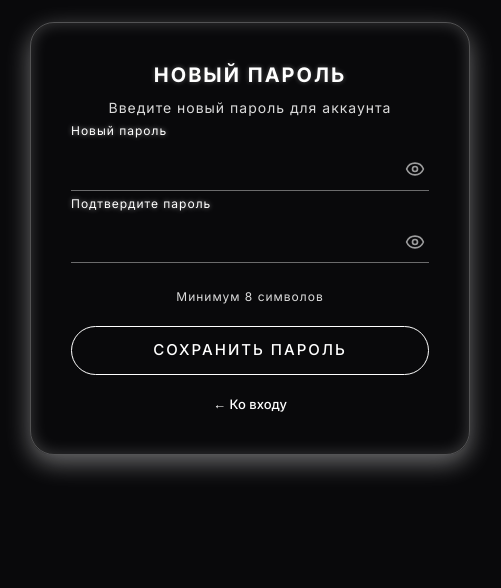
Test: ResetPassword › with token › shows error when password is too short
Type "abc" into the password field labelled "Новый пароль".
click(250, 167); type("abc")  # box [71, 143, 429, 190]
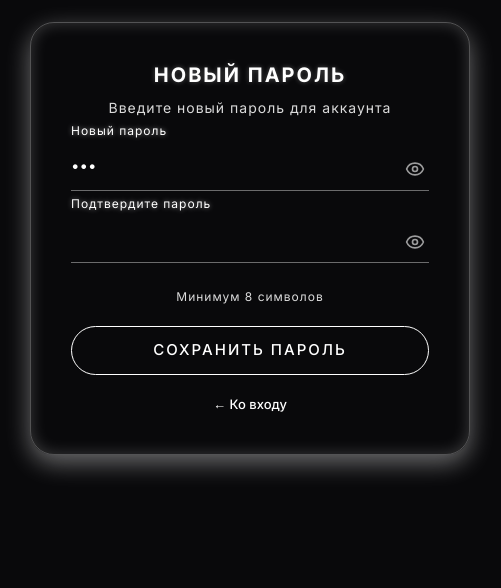
Type "abc" into the password field labelled "Подтвердите пароль".
click(250, 239); type("abc")  # box [71, 216, 429, 263]
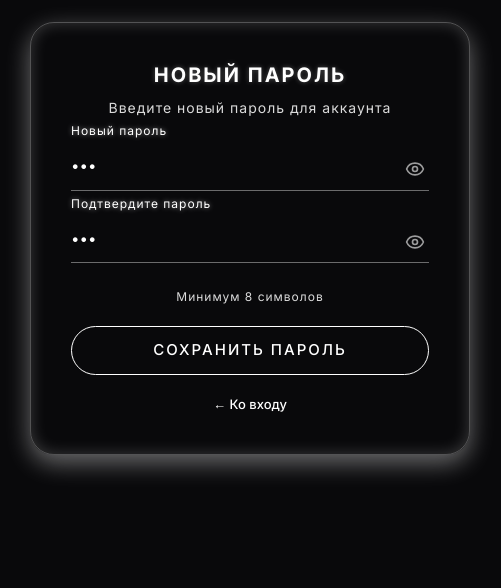
Submit the form labelled "Новый пароль", box [71, 143, 429, 374]
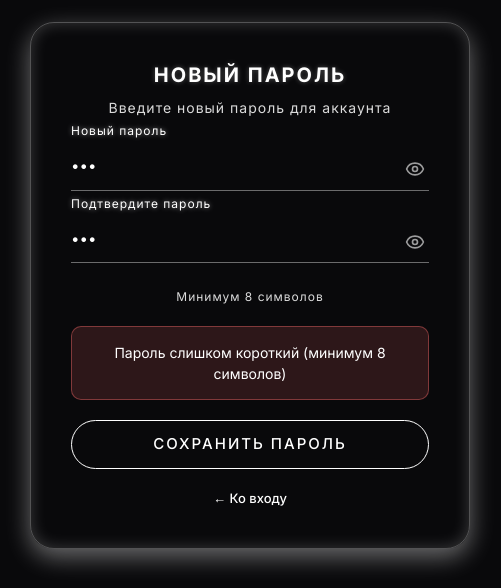
Expected: the text "Пароль слишком короткий (минимум 8 символов)" is shown, [71, 326, 429, 400]
